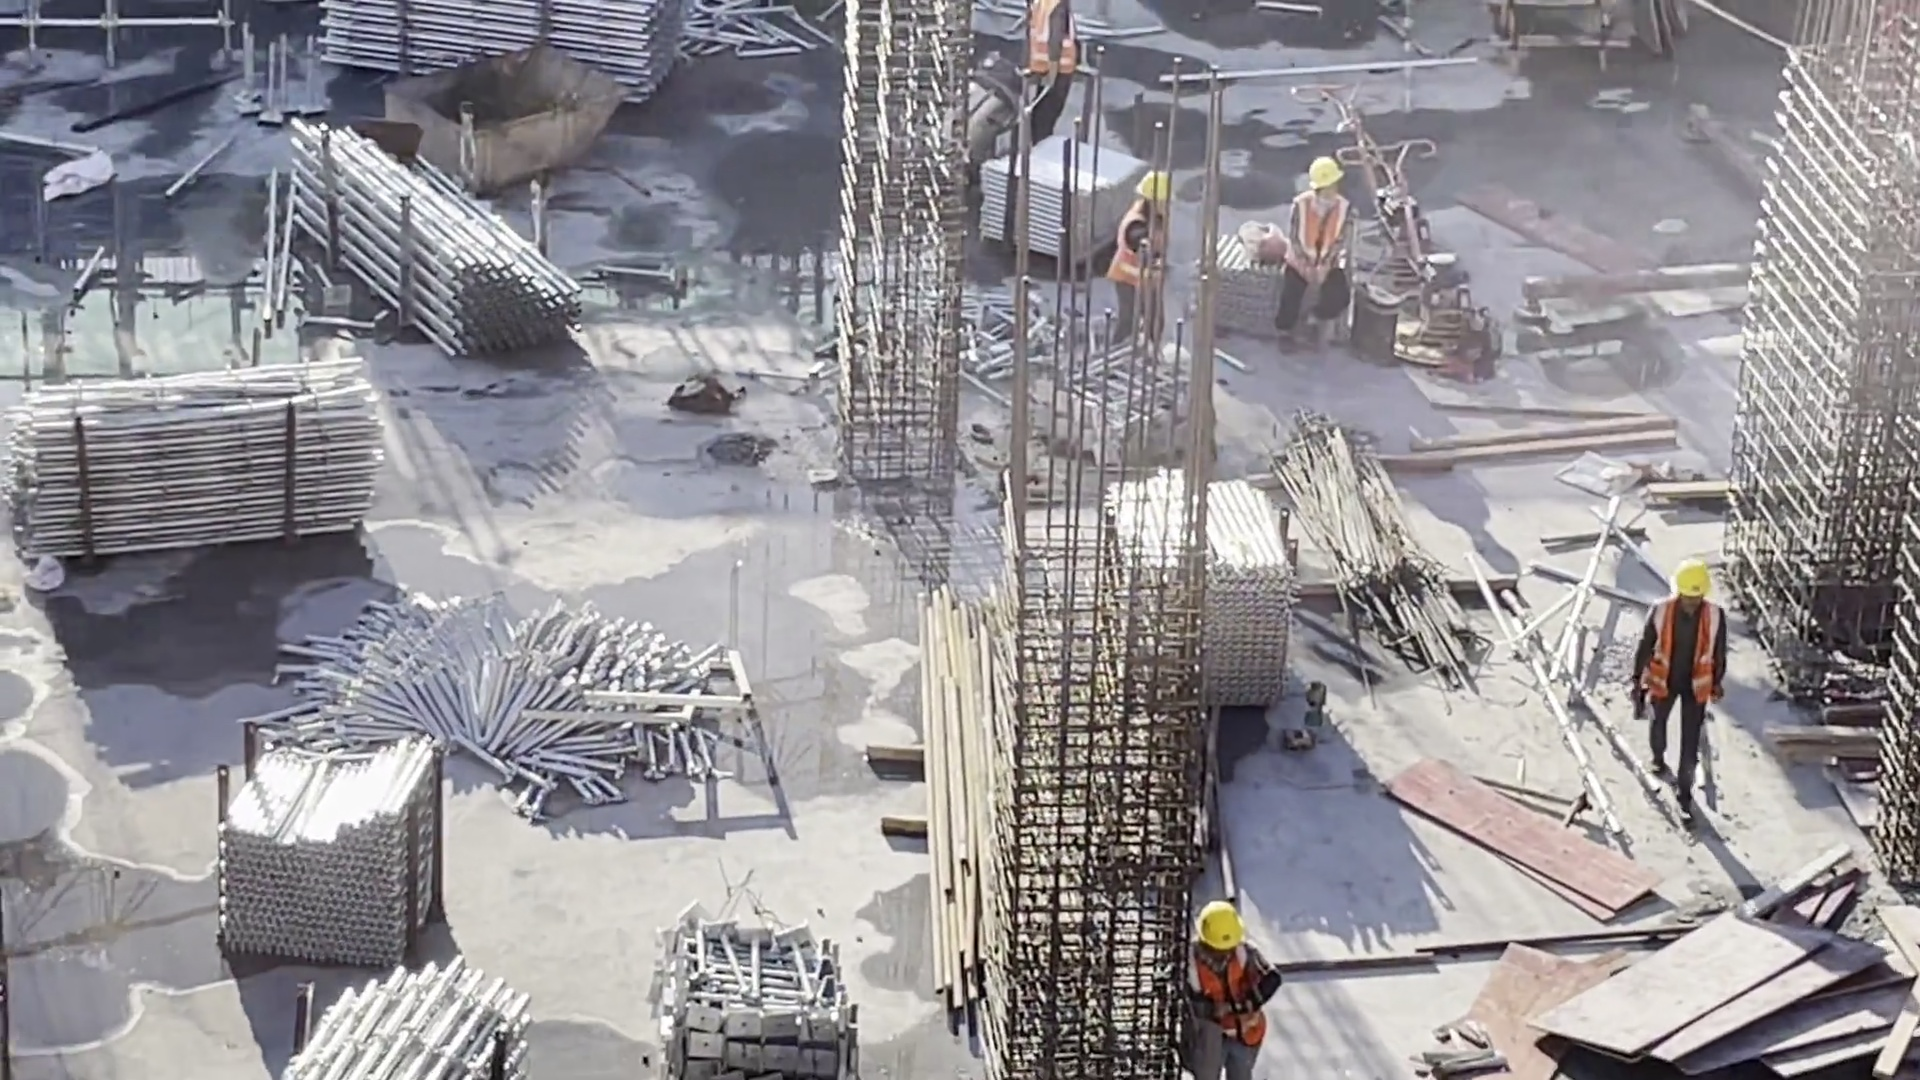helmet: (1193, 901, 1247, 948), (1140, 163, 1191, 212), (1306, 156, 1358, 198), (1674, 557, 1711, 597)
person: (1636, 552, 1732, 813), (1184, 895, 1279, 1080), (1112, 161, 1178, 374), (1281, 154, 1347, 358), (1029, 1, 1093, 161)
vest: (1633, 598, 1732, 712), (1196, 937, 1271, 1050), (1284, 188, 1349, 277), (1119, 201, 1176, 293), (1020, 1, 1090, 73)
